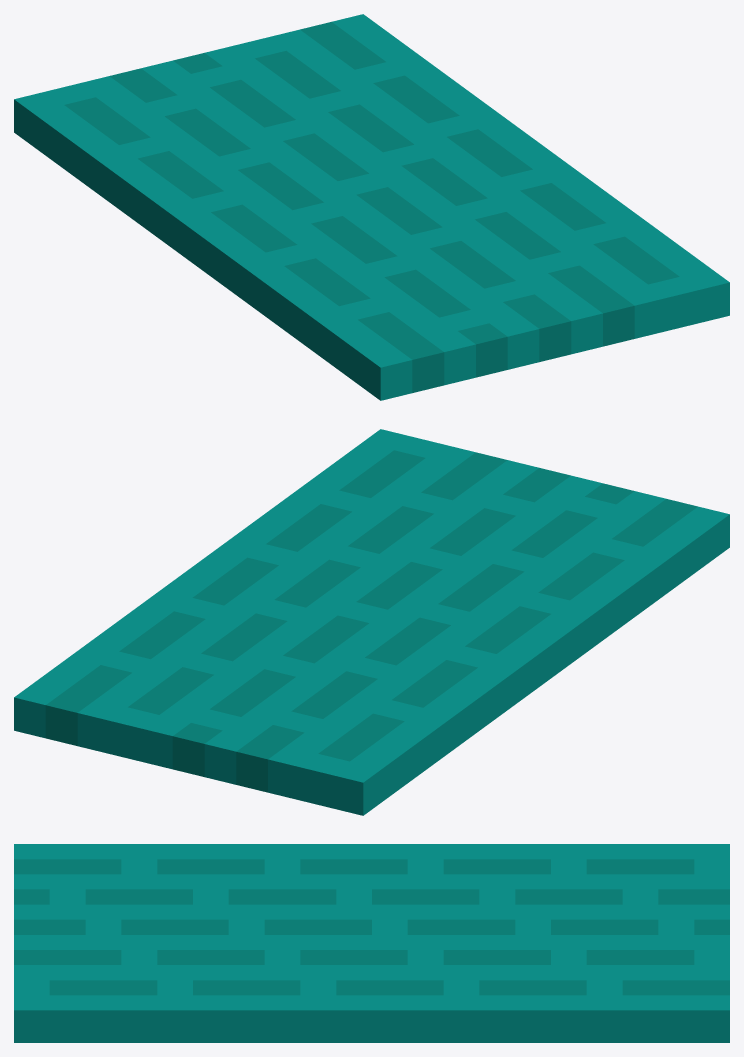
Rendered from BlocksAndFloors-21.obj.
The picture shows the model from 3 angles, top to bottom: view 1: azimuth 30°, elevation 25°; view 2: azimuth 150°, elevation 25°; view 3: azimuth 270°, elevation 25°; orthographic projection. The views are drawn at different scales.
Size of the model in its own units: 1.1 by 0.1 by 2.
Materials: 1 (1 with a texture image).
